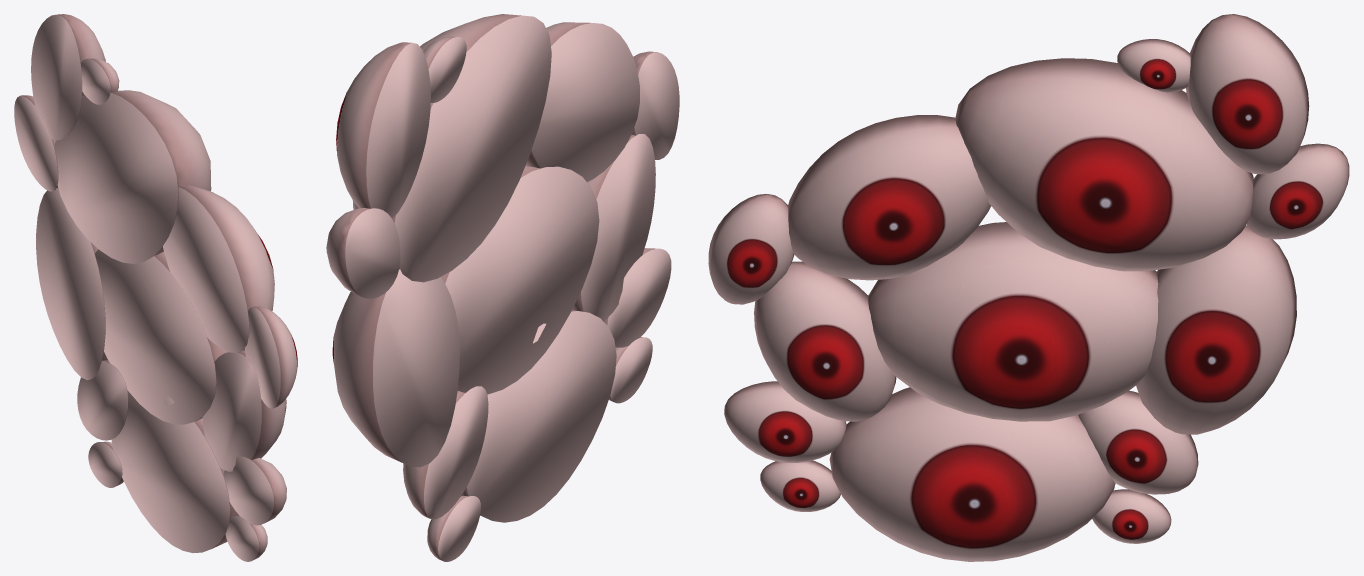
The model's file is eye cluster 2.fbx.
The picture shows the model from 3 angles, left to right: view 1: azimuth 30°, elevation 25°; view 2: azimuth 150°, elevation 25°; view 3: azimuth 270°, elevation 25°; orthographic projection. The views are drawn at different scales.
Parts seen in each view (by area): view 1: cluster of eyes one; view 2: cluster of eyes one; view 3: cluster of eyes one.
Boxes of the visible parts, bbox=[...] form: cluster of eyes one: bbox=[14, 14, 297, 561]; cluster of eyes one: bbox=[326, 14, 679, 561]; cluster of eyes one: bbox=[708, 14, 1349, 561].
Size of the model in its own units: 100 by 559 by 603.
Materials: 3 (3 with a texture image).
